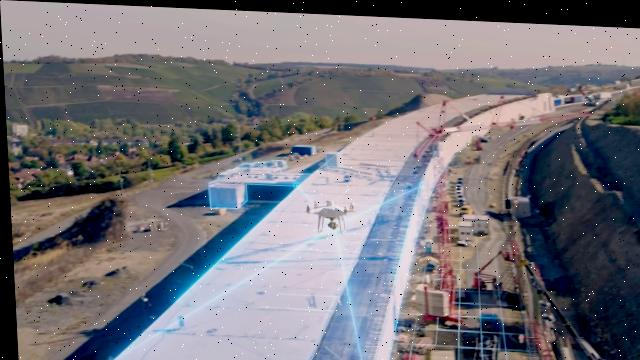drone: (303, 195, 354, 232)
